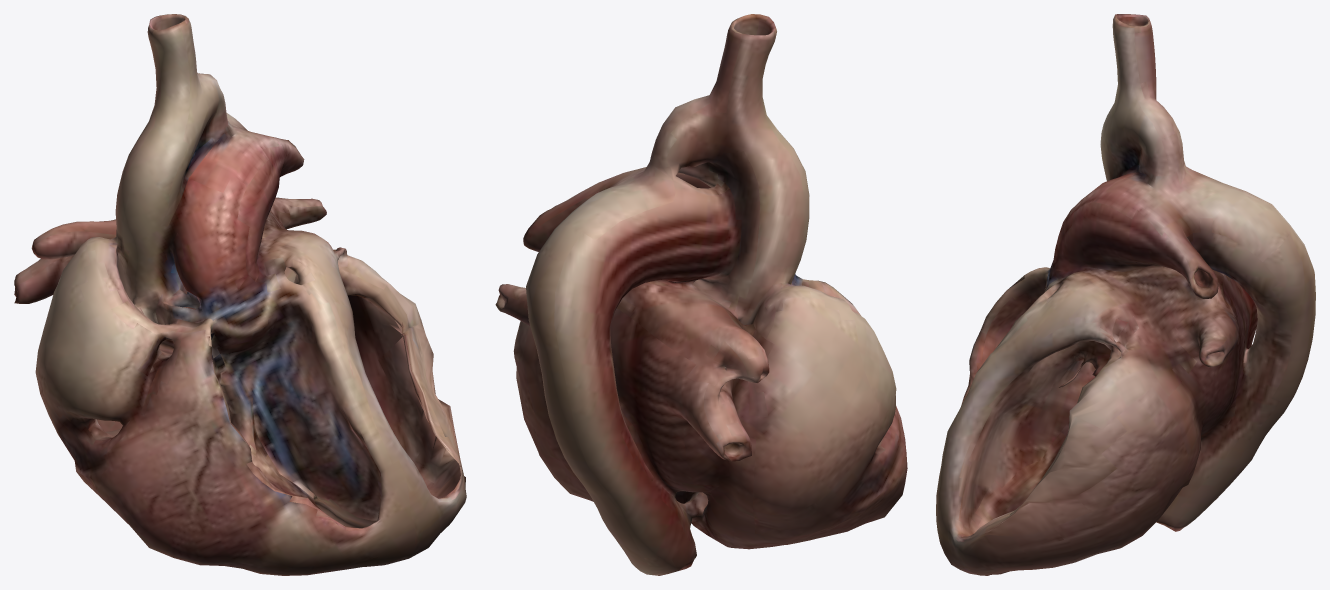
File: SickHeart.glb
The picture shows the model from 3 angles, left to right: view 1: azimuth 30°, elevation 25°; view 2: azimuth 150°, elevation 25°; view 3: azimuth 270°, elevation 25°; orthographic projection. The views are drawn at different scales.
Parts seen in each view (by area): view 1: SickHeart; view 2: SickHeart; view 3: SickHeart.
Part boxes in pixels (x1,y1,x2,y2): SickHeart: (14,14,466,575); SickHeart: (495,14,907,575); SickHeart: (936,14,1315,575).
Bounding box in the file's own units: 1.38 × 1.99 × 1.38.
Materials: 1 (1 with a texture image).
